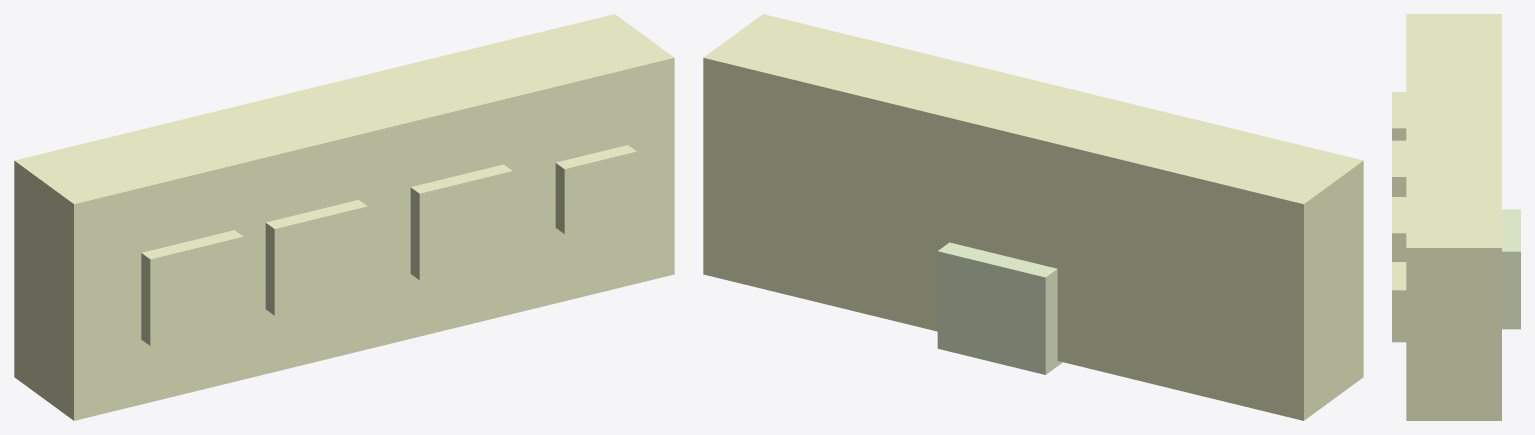
File: signal_transit_priority_horizontal_4_aspect.glb
3 renders of one model, left to right at view 1: azimuth 30°, elevation 25°; view 2: azimuth 150°, elevation 25°; view 3: azimuth 270°, elevation 25°, orthographic. The views are drawn at different scales.
Parts seen in each view (by area): view 1: housing, display_transit_go, display_transit_stop, display_transit_caution, display_transit_call; view 2: housing, bracket; view 3: housing, bracket, display_transit_call, display_transit_go, display_transit_caution, display_transit_stop.
Boxes of the visible parts, box(x1,y1,x2,y2) form: housing: box(14, 14, 674, 420); display_transit_go: box(410, 164, 512, 280); display_transit_stop: box(141, 230, 243, 345); display_transit_caution: box(265, 200, 367, 315); display_transit_call: box(555, 145, 636, 234); housing: box(703, 14, 1363, 420); bracket: box(937, 242, 1062, 374); housing: box(1406, 14, 1501, 420); bracket: box(1502, 209, 1520, 329); display_transit_call: box(1392, 262, 1406, 342); display_transit_go: box(1392, 197, 1406, 261); display_transit_caution: box(1392, 140, 1406, 196); display_transit_stop: box(1392, 92, 1406, 140).
Bounding box in the file's own units: 1.16 × 0.41 × 0.27.
